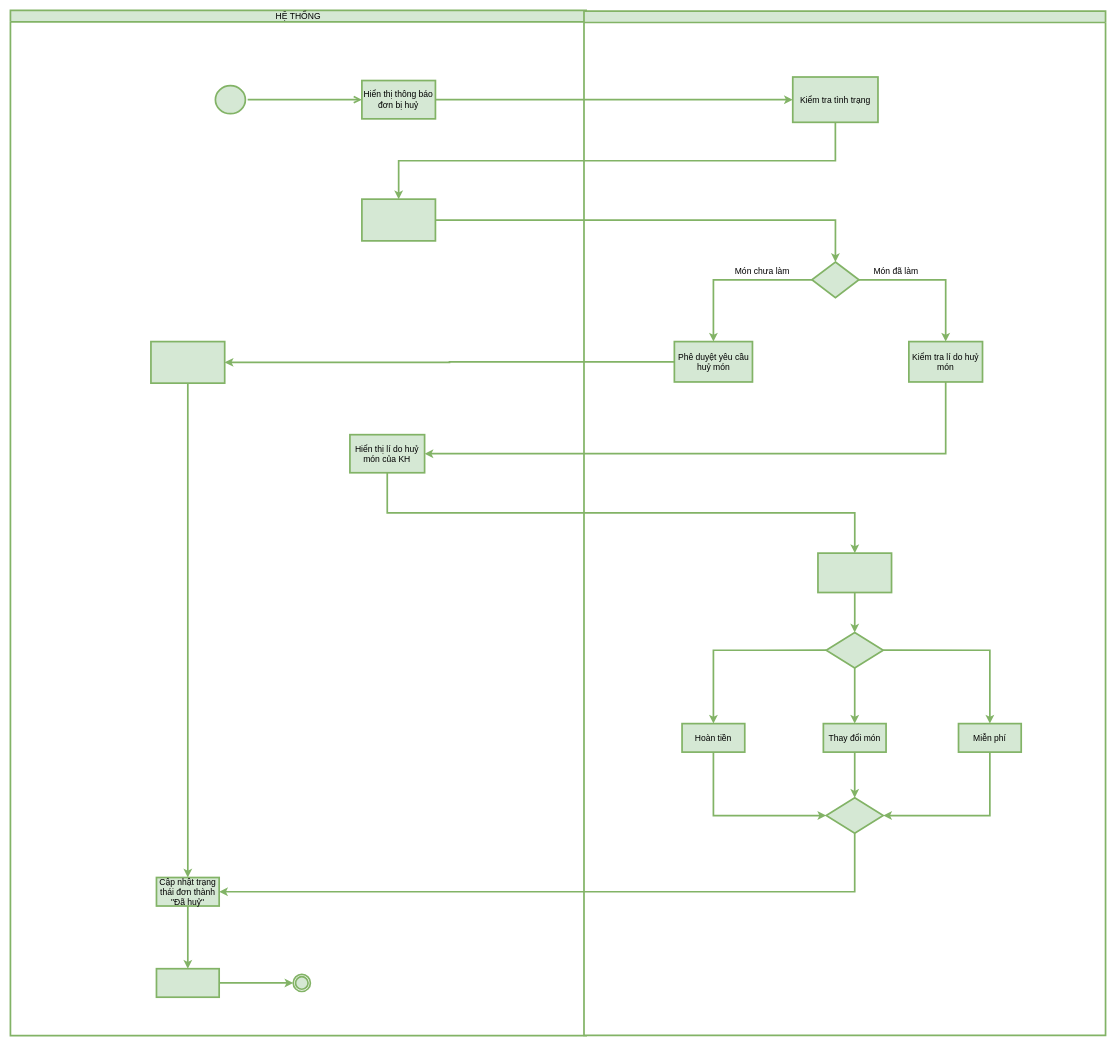
Image size: 1117x1047. Some labels were removed from this diagram. The shapes that lost their labels are listed below. From the top down, each one's box as (x1, y1, x2, y2) in pixels, then its label:
(361, 198, 436, 241): Hiển thị tình trạng đơn hàng
(150, 340, 225, 384): Xác nhận thông tin
(583, 10, 1106, 1036): QUẢN LÍ
(817, 552, 892, 593): Xác nhận và đề ra phương án
(155, 968, 220, 998): Lưu trữ thông tin
